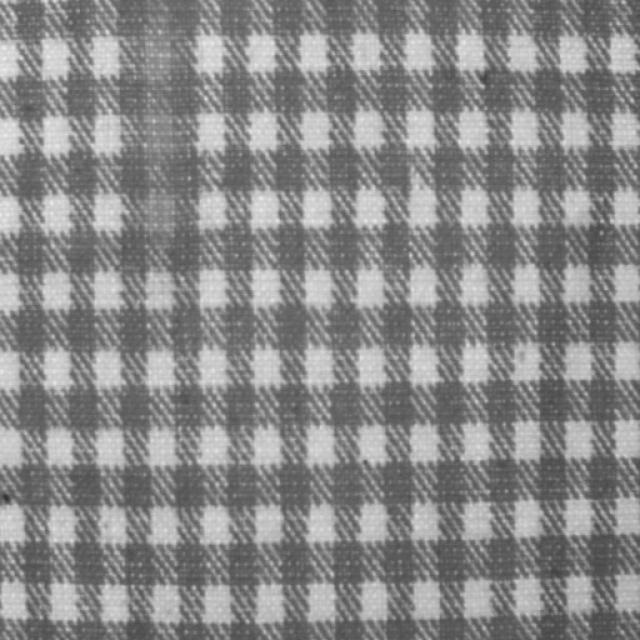Stain-Defect: (139, 2, 180, 238)
